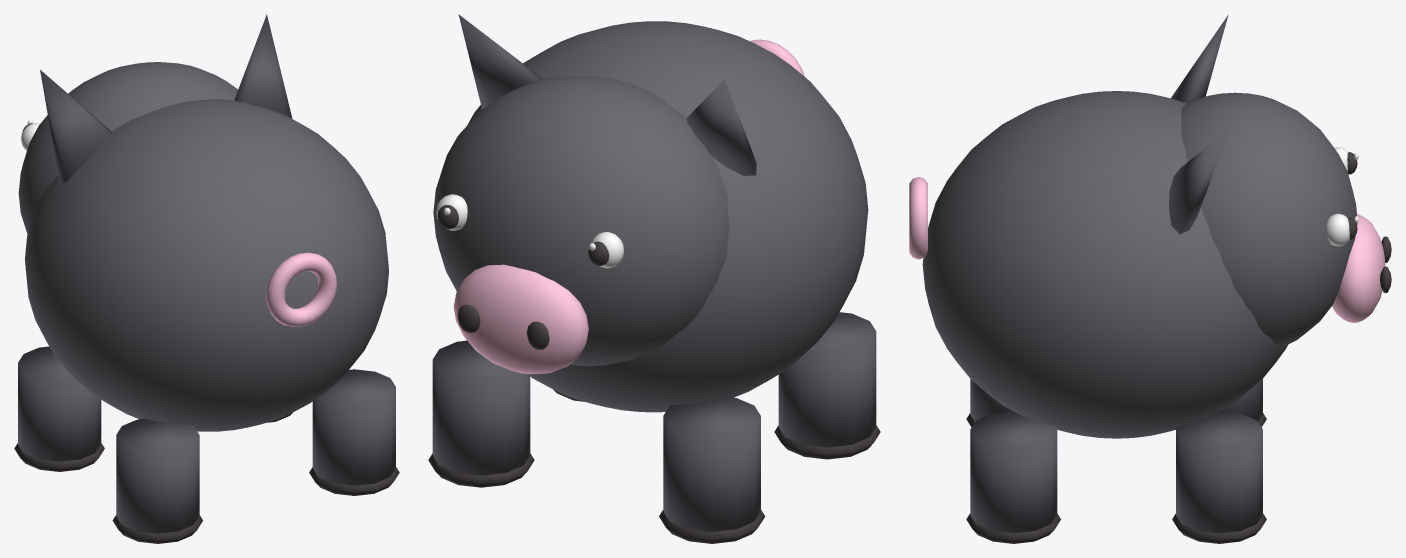
File: Pet_BlackPig.fbx
3 views of the same model, side by side, from view 1: azimuth 30°, elevation 25°; view 2: azimuth 150°, elevation 25°; view 3: azimuth 270°, elevation 25° (orthographic). The views are drawn at different scales.
Parts seen in each view (by area): view 1: Pet_BlackPig, Head, Leg2, Leg3, Leg0, EarL, Tail, EarR, Hoof0, Hoof3, Hoof2; view 2: Pet_BlackPig, Head, Leg0, Leg1, Leg2, Snout, EarL, EarR, Hoof2, Hoof1, Hoof0, EyeL (+1 smaller); view 3: Pet_BlackPig, Head, Leg3, Leg1, Snout, EarR, EarL, Tail, Hoof1, Hoof3, Leg2, Leg0 (+1 smaller).
Boxes of the visible parts, left/top/right/bottom form: Pet_BlackPig: left=25, top=99, right=388, bottom=431; Head: left=18, top=62, right=237, bottom=233; Leg2: left=116, top=418, right=199, bottom=533; Leg3: left=312, top=369, right=395, bottom=485; Leg0: left=18, top=346, right=101, bottom=461; EarL: left=40, top=70, right=111, bottom=185; Tail: left=266, top=252, right=336, bottom=326; EarR: left=234, top=14, right=292, bottom=118; Hoof0: left=14, top=443, right=104, bottom=471; Hoof3: left=309, top=467, right=399, bottom=495; Hoof2: left=112, top=515, right=202, bottom=543; Pet_BlackPig: left=456, top=21, right=868, bottom=412; Head: left=433, top=76, right=729, bottom=366; Leg0: left=663, top=397, right=760, bottom=531; Leg1: left=432, top=340, right=530, bottom=475; Leg2: left=778, top=312, right=876, bottom=447; Snout: left=453, top=264, right=588, bottom=373; EarL: left=686, top=79, right=756, bottom=176; EarR: left=458, top=14, right=542, bottom=109; Hoof2: left=774, top=425, right=880, bottom=459; Hoof1: left=428, top=453, right=534, bottom=487; Hoof0: left=659, top=510, right=765, bottom=543; EyeL: left=591, top=232, right=623, bottom=268; Pet_BlackPig: left=922, top=91, right=1287, bottom=438; Head: left=1181, top=92, right=1357, bottom=346; Leg3: left=970, top=411, right=1057, bottom=533; Leg1: left=1176, top=411, right=1262, bottom=533; Snout: left=1332, top=214, right=1385, bottom=322; EarR: left=1169, top=130, right=1228, bottom=234; EarL: left=1171, top=14, right=1228, bottom=103; Tail: left=909, top=177, right=927, bottom=259; Hoof1: left=1172, top=513, right=1266, bottom=543; Hoof3: left=966, top=513, right=1060, bottom=543; Leg2: left=970, top=379, right=1012, bottom=421; Leg0: left=1220, top=379, right=1262, bottom=421.
Bounding box in the file's own units: 0.96 × 1.15 × 1.22.
